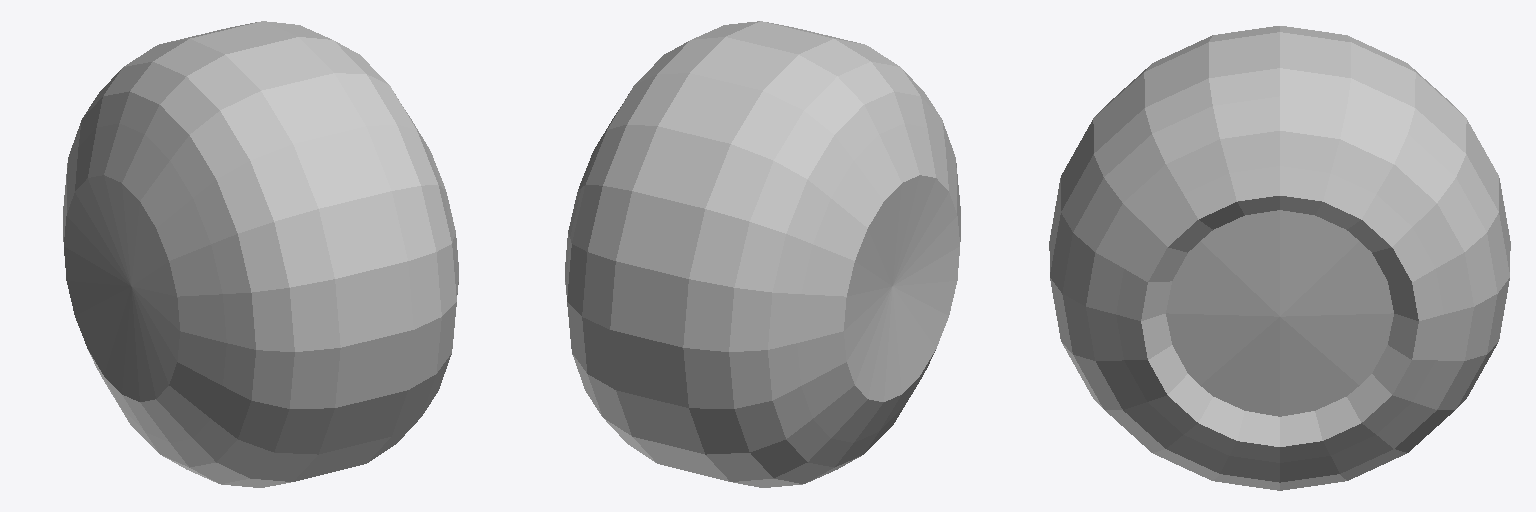
Rendered from Back Left Tire.obj.
3 renders of one model, left to right at view 1: azimuth 30°, elevation 25°; view 2: azimuth 150°, elevation 25°; view 3: azimuth 270°, elevation 25°, orthographic.
Parts seen in each view (by area): view 1: TireB_F__m_Tire.001; view 2: TireB_F__m_Tire.001; view 3: TireB_F__m_Tire.001.
Boxes of the visible parts, box(x1,y1,x2,y2) form: TireB_F__m_Tire.001: box(63, 21, 458, 487); TireB_F__m_Tire.001: box(565, 21, 960, 487); TireB_F__m_Tire.001: box(1049, 26, 1510, 490).
Size of the model in its own units: 0.4051 by 0.6034 by 0.6035.